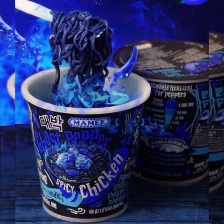paper_cup: (17, 59, 154, 224), (108, 35, 209, 192)
